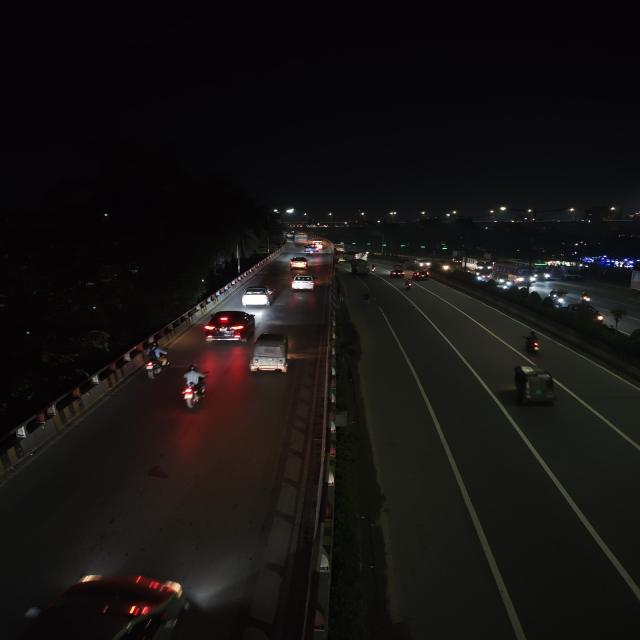bus: (494, 261, 545, 286), (464, 256, 491, 274), (349, 259, 369, 275)
car: (201, 308, 257, 344), (240, 284, 275, 308), (290, 273, 316, 293), (288, 255, 310, 269), (304, 243, 320, 254), (412, 269, 428, 280), (390, 269, 404, 280)
cng: (506, 363, 559, 409), (248, 330, 293, 378)
motorcycle: (176, 364, 213, 413), (138, 343, 172, 381), (520, 328, 544, 357), (549, 289, 567, 307), (579, 290, 594, 304), (404, 278, 416, 292), (368, 263, 379, 273)
pedestrian: (361, 292, 374, 306)
truck: (626, 266, 640, 296), (561, 266, 579, 280)
